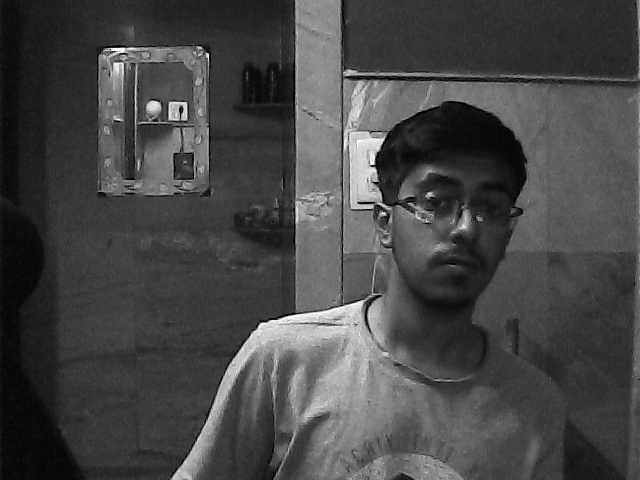nomask: (391, 135, 516, 312)
